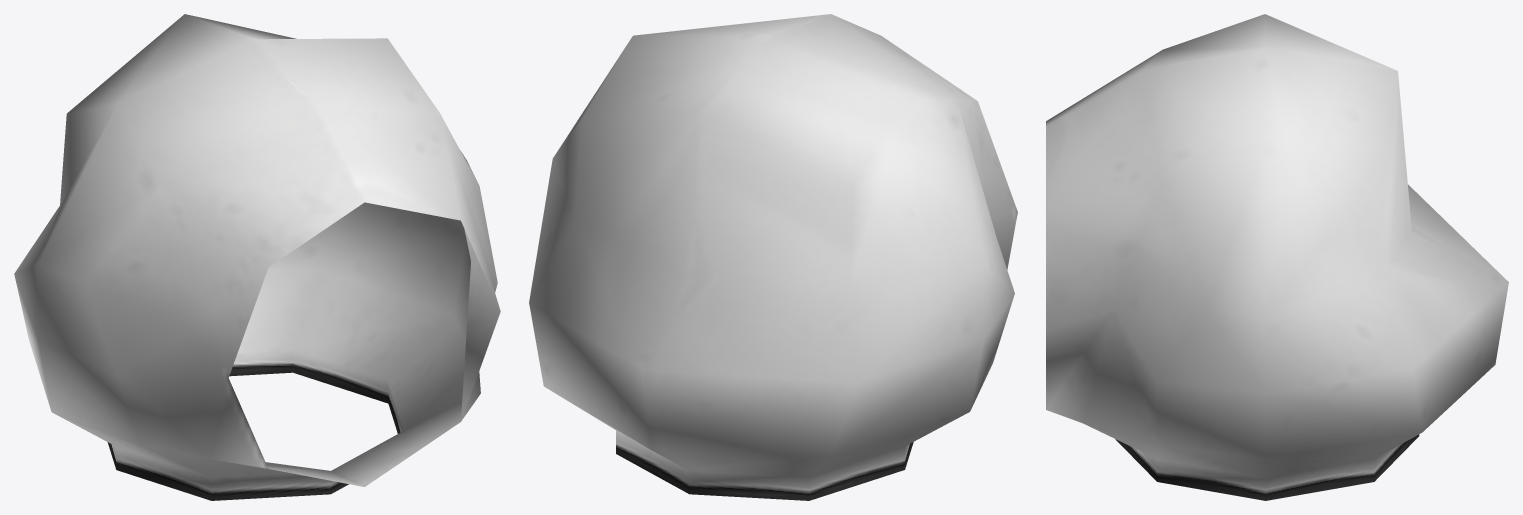
The model's file is big_arm_link_2.dae.
3 renders of one model, left to right at view 1: azimuth 30°, elevation 25°; view 2: azimuth 150°, elevation 25°; view 3: azimuth 270°, elevation 25°, orthographic. The views are drawn at different scales.
Parts seen in each view (by area): view 1: Big Arm_2; view 2: Big Arm_2; view 3: Big Arm_2.
Boxes of the visible parts, x1=… form: Big Arm_2: x1=14, y1=14, x2=500, y2=500; Big Arm_2: x1=529, y1=14, x2=1017, y2=500; Big Arm_2: x1=1046, y1=14, x2=1508, y2=500.
Size of the model in its own units: 0.3904 by 0.3729 by 0.3458.
1 material, 1 textured.
